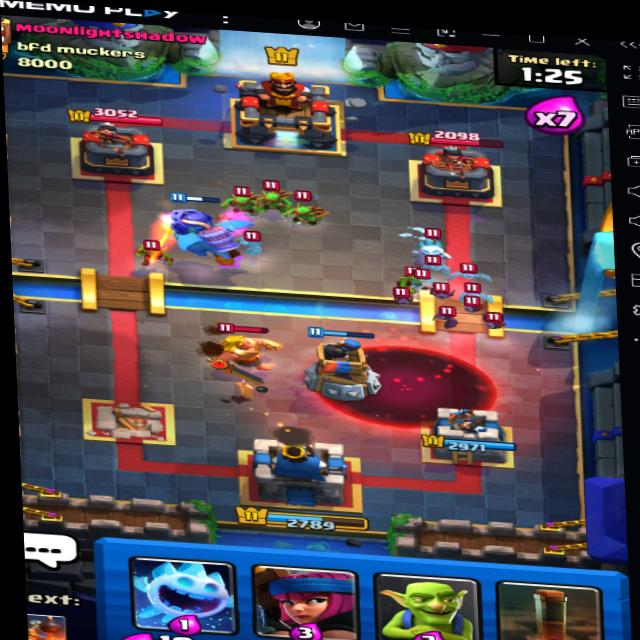bats: (453, 292, 484, 320), (424, 307, 463, 329), (481, 307, 516, 331), (386, 288, 417, 307), (428, 284, 457, 301)
goblin: (133, 235, 173, 274)
golden-knight: (195, 320, 283, 385)
ice-spirit: (410, 227, 452, 265)
spear-goblin: (283, 191, 333, 229), (215, 177, 255, 220), (252, 177, 292, 212)
void: (320, 337, 497, 432)
